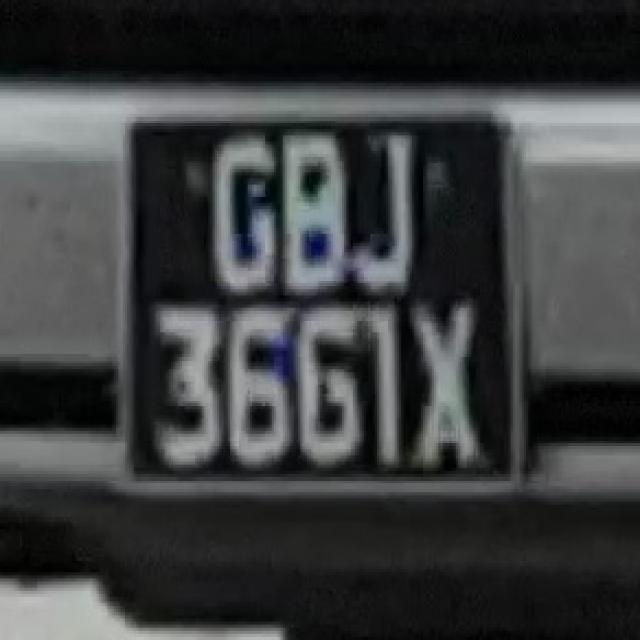1: (366, 295, 403, 477)
3: (151, 286, 224, 480)
6: (217, 289, 296, 477), (300, 302, 366, 468)
B: (278, 126, 342, 302)
G: (204, 130, 276, 296)
J: (342, 130, 423, 298)
X: (408, 292, 487, 471)
